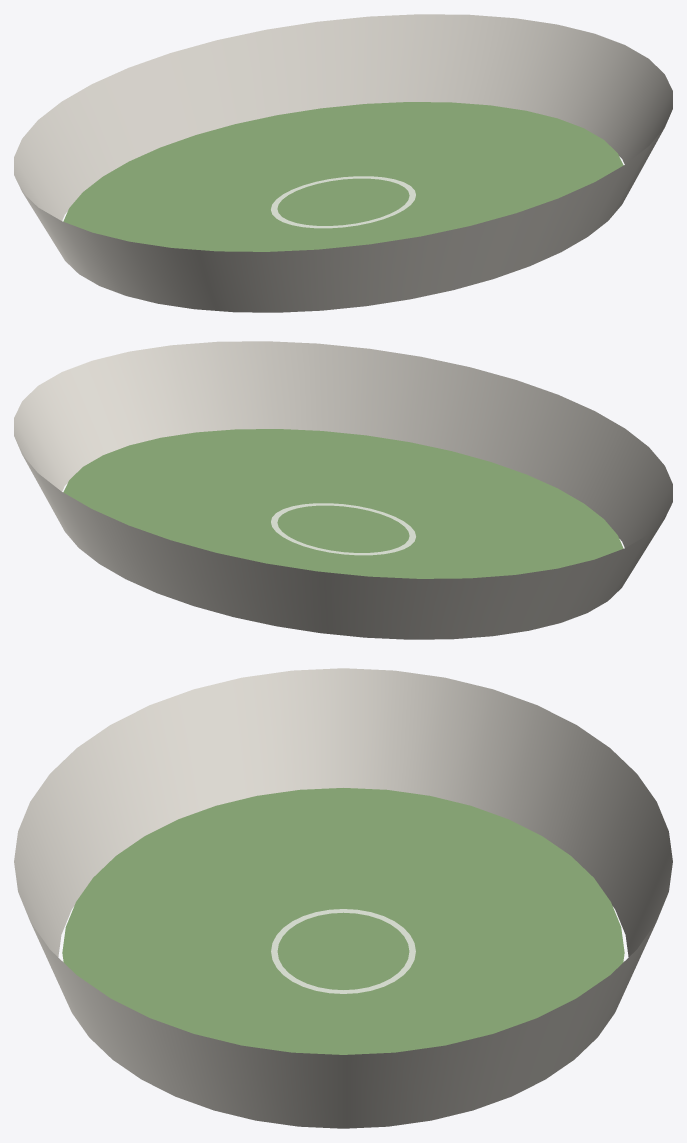
Rendered from estadio.fbx.
The picture shows the model from 3 angles, top to bottom: view 1: azimuth 30°, elevation 25°; view 2: azimuth 150°, elevation 25°; view 3: azimuth 270°, elevation 25°; orthographic projection. The views are drawn at different scales.
Parts seen in each view (by area): view 1: stadium, pitch, e9f0e2; view 2: stadium, pitch, e9f0e2; view 3: stadium, pitch, e9f0e2.
Boxes of the visible parts, <box> form: stadium: <box>14,14,672,312</box>; pitch: <box>63,102,623,251</box>; e9f0e2: <box>271,176,415,228</box>; stadium: <box>14,341,672,639</box>; pitch: <box>63,429,623,578</box>; e9f0e2: <box>271,503,415,555</box>; stadium: <box>14,668,672,1128</box>; pitch: <box>62,788,624,1054</box>; e9f0e2: <box>271,909,415,993</box>.
Size of the model in its own units: 30 by 3.6 by 21.6.
